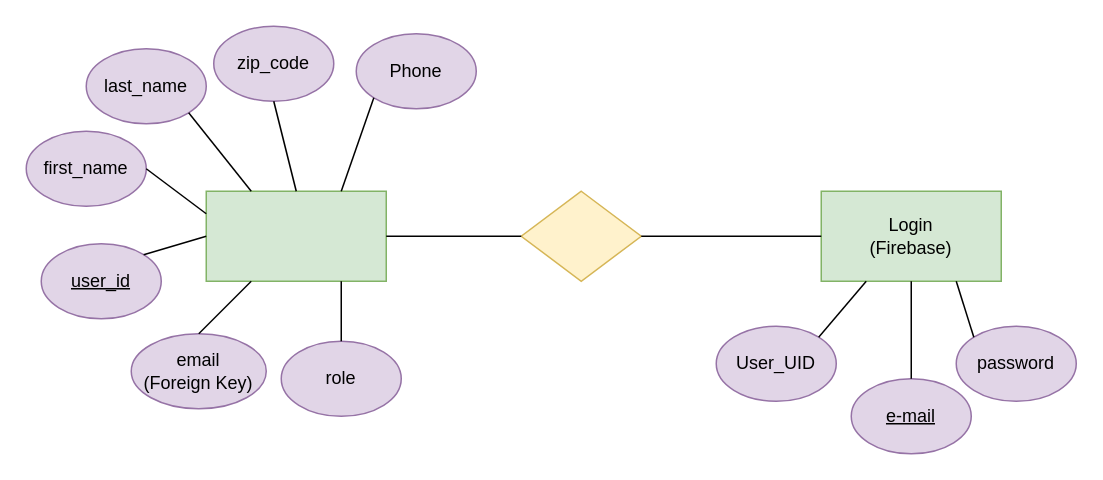
The diagram is 1103 pixels wide and 480 high, and some of its shapes have lost their labels. The shapes that lost their labels are listed below. From the top down, each one's centre as x and y in pixels, then its label:
At (295,235): "User Accounts".
At (580,235): "Has".
